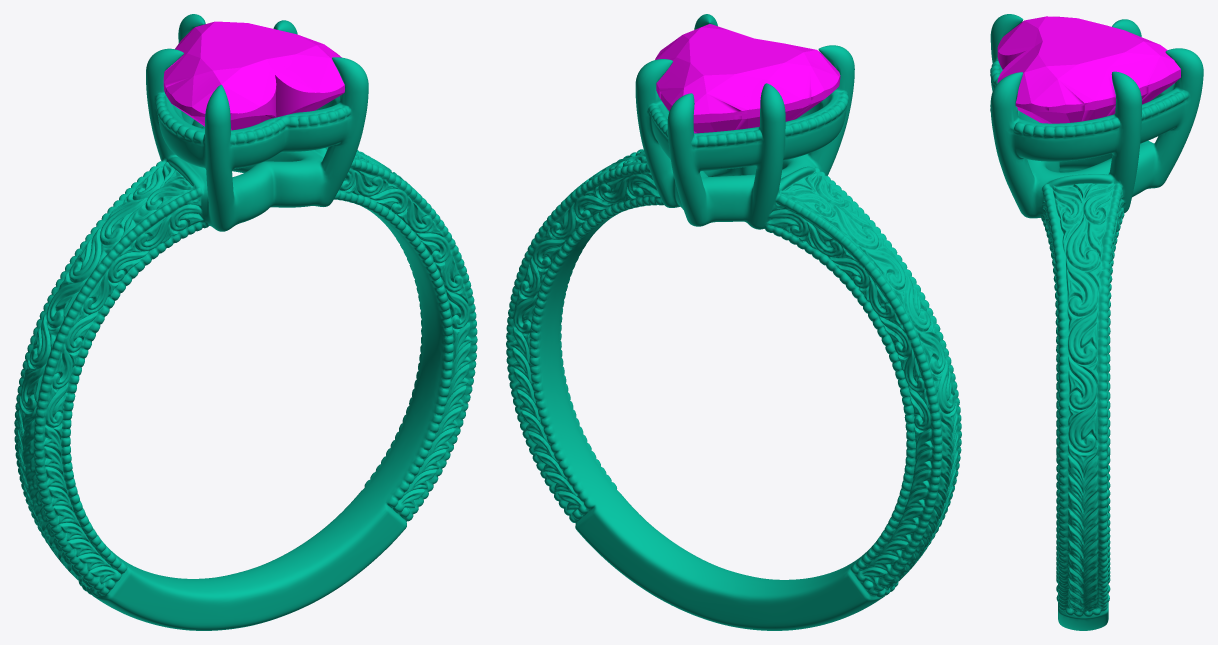
The model's file is BE1512_HT_200ct_RENDER.glb.
The picture shows the model from 3 angles, left to right: view 1: azimuth 30°, elevation 25°; view 2: azimuth 150°, elevation 25°; view 3: azimuth 270°, elevation 25°; orthographic projection.
Visible parts, largest first — view 1: Metal 01, CS_Diamond_Heart; view 2: Metal 01, CS_Diamond_Heart; view 3: Metal 01, CS_Diamond_Heart.
Part boxes in pixels (x1,y1,x2,y2): Metal 01: (14, 14, 477, 630); CS_Diamond_Heart: (163, 21, 344, 130); Metal 01: (506, 14, 961, 630); CS_Diamond_Heart: (655, 24, 840, 133); Metal 01: (990, 14, 1203, 630); CS_Diamond_Heart: (997, 16, 1180, 123).
Bounding box in the file's own units: 19.9 × 24.59 × 8.41.
